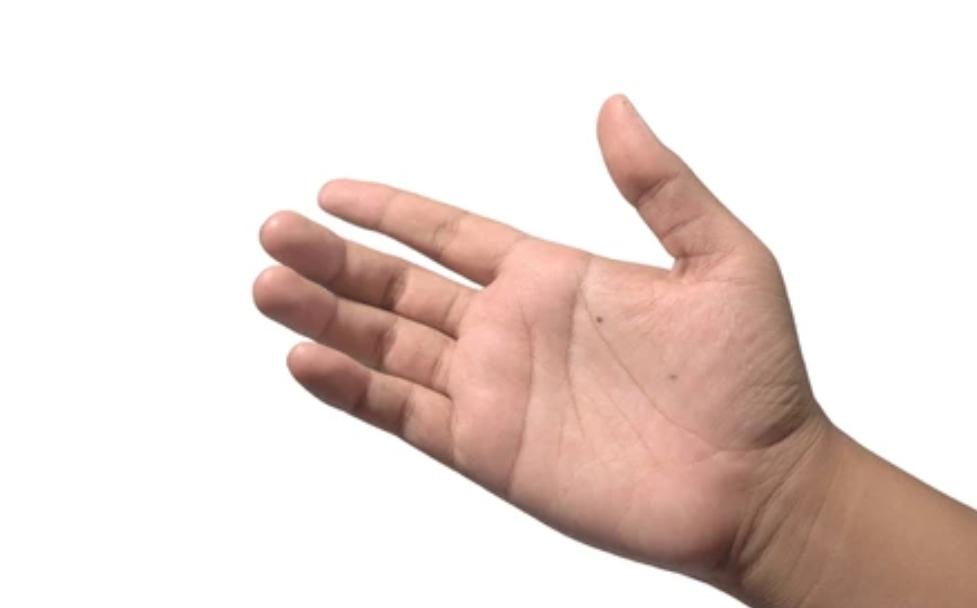family ring: (673, 267, 786, 296)
fate line: (552, 325, 665, 477)
head line: (562, 254, 590, 452)
heart line: (507, 298, 536, 497)
life line: (577, 272, 764, 453)
